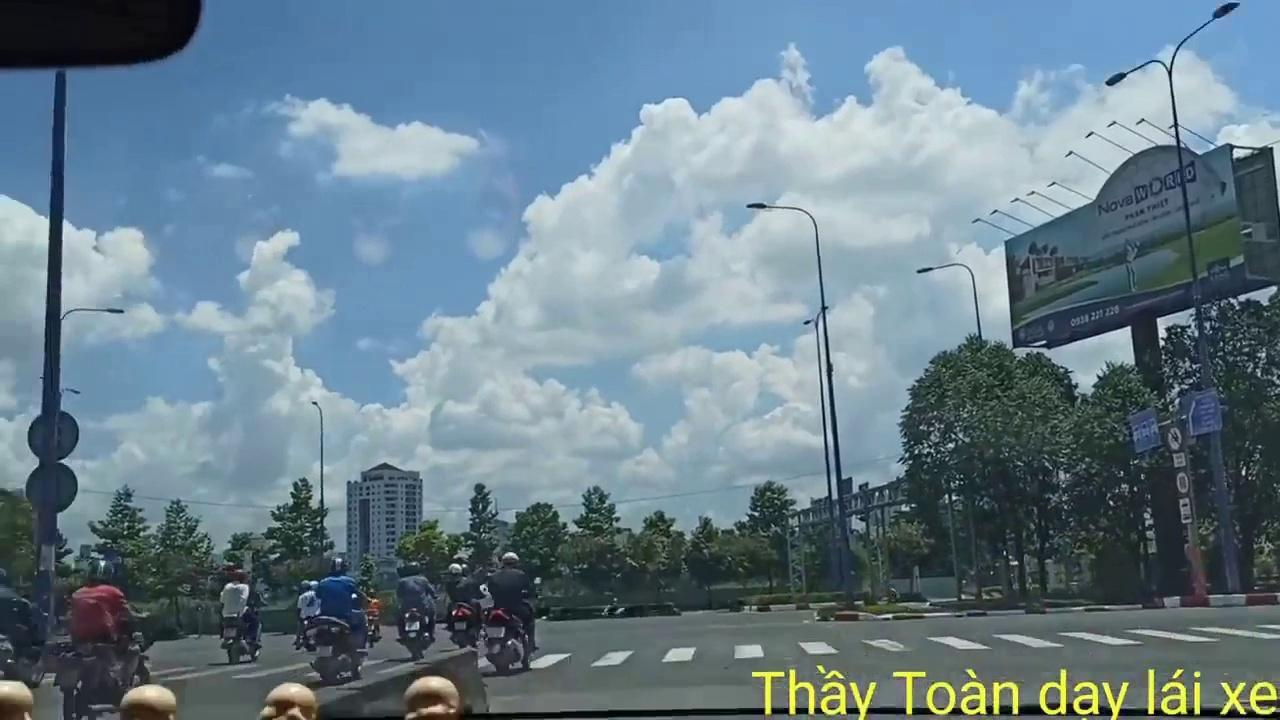Biển phụ: (1177, 495, 1194, 524)
Chỉ hướng đường: (1182, 384, 1224, 436)
Cấm xe máy: (1165, 425, 1185, 453)
Làn đường cho từng xe: (1126, 405, 1163, 453)
